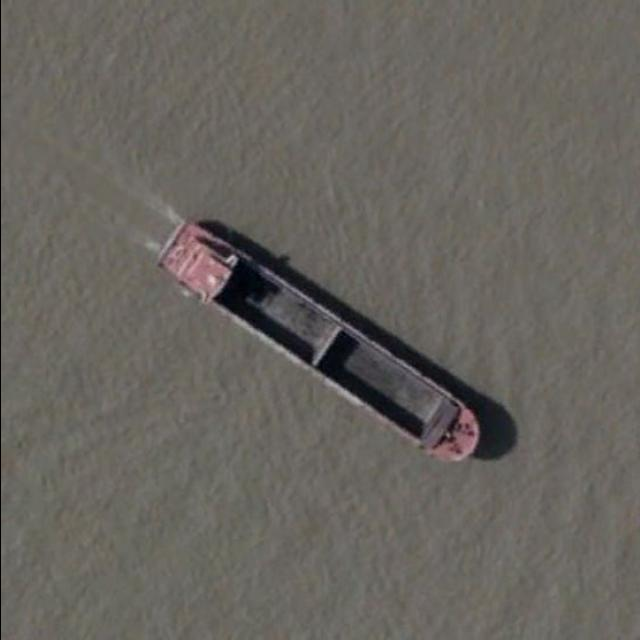ship: (155, 220, 486, 468)
